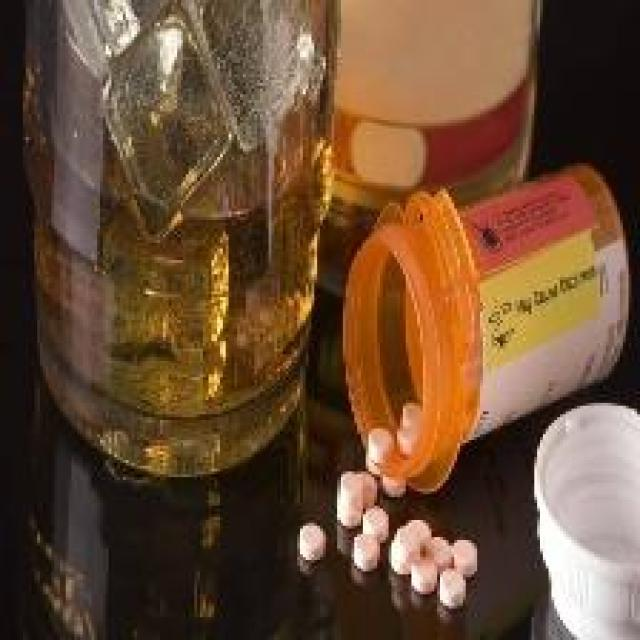Medicine: (292, 354, 504, 640)
